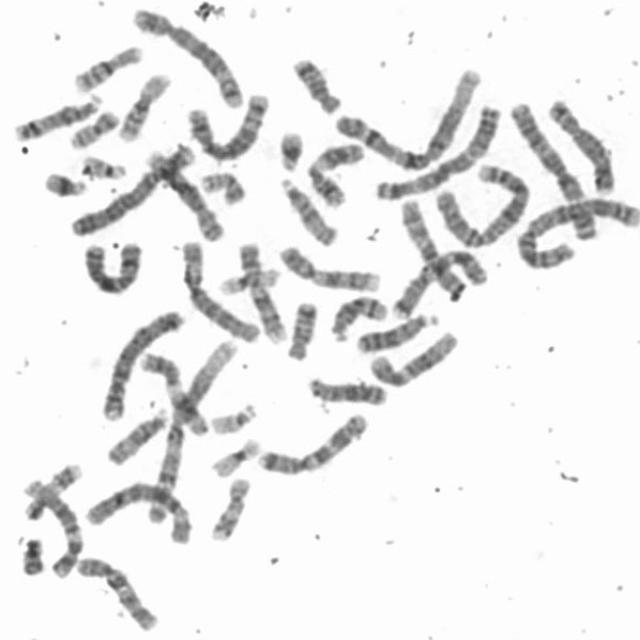A1: (140, 332, 240, 526), (327, 64, 486, 172)
A2: (512, 194, 639, 270), (430, 158, 531, 250)
A3: (369, 100, 503, 201), (508, 101, 600, 244)
B4: (67, 139, 198, 238), (98, 305, 186, 424)
B5: (129, 4, 246, 110), (184, 89, 271, 163)
C10: (399, 194, 471, 303), (72, 552, 160, 634)
C11: (136, 348, 211, 438), (303, 138, 366, 209)
C12: (22, 478, 84, 578), (365, 326, 458, 391)
C6: (177, 236, 262, 343), (80, 477, 195, 547)
C7: (253, 410, 370, 478), (389, 246, 489, 319)
C8: (140, 145, 227, 243), (544, 95, 616, 197)
C9: (274, 241, 382, 294), (235, 239, 287, 344)
D13: (352, 309, 439, 354), (303, 374, 387, 407)
D14: (11, 90, 105, 143), (326, 292, 388, 343)
D15: (276, 173, 339, 247), (102, 404, 171, 468)
E16: (114, 69, 172, 142), (68, 41, 144, 94)
E17: (22, 460, 84, 524), (206, 474, 252, 543)
E18: (289, 54, 342, 115), (282, 298, 319, 362)
F19: (208, 434, 263, 479), (215, 263, 282, 297)
F20: (66, 106, 122, 150), (197, 168, 247, 208)
G21: (41, 168, 88, 200), (275, 128, 305, 172)
G22: (206, 399, 258, 437), (78, 152, 129, 182)
X: (80, 236, 144, 297)
Y: (18, 533, 46, 577)
